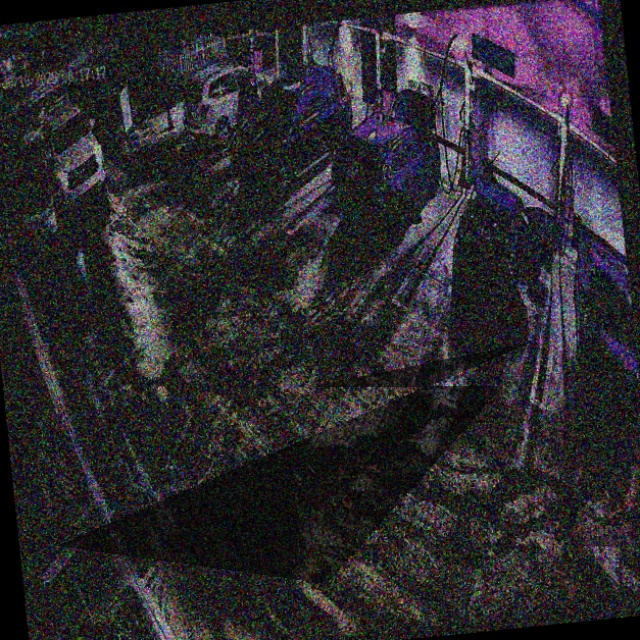Car: (220, 62, 358, 204), (445, 173, 568, 329), (329, 86, 446, 241), (181, 52, 280, 156)
